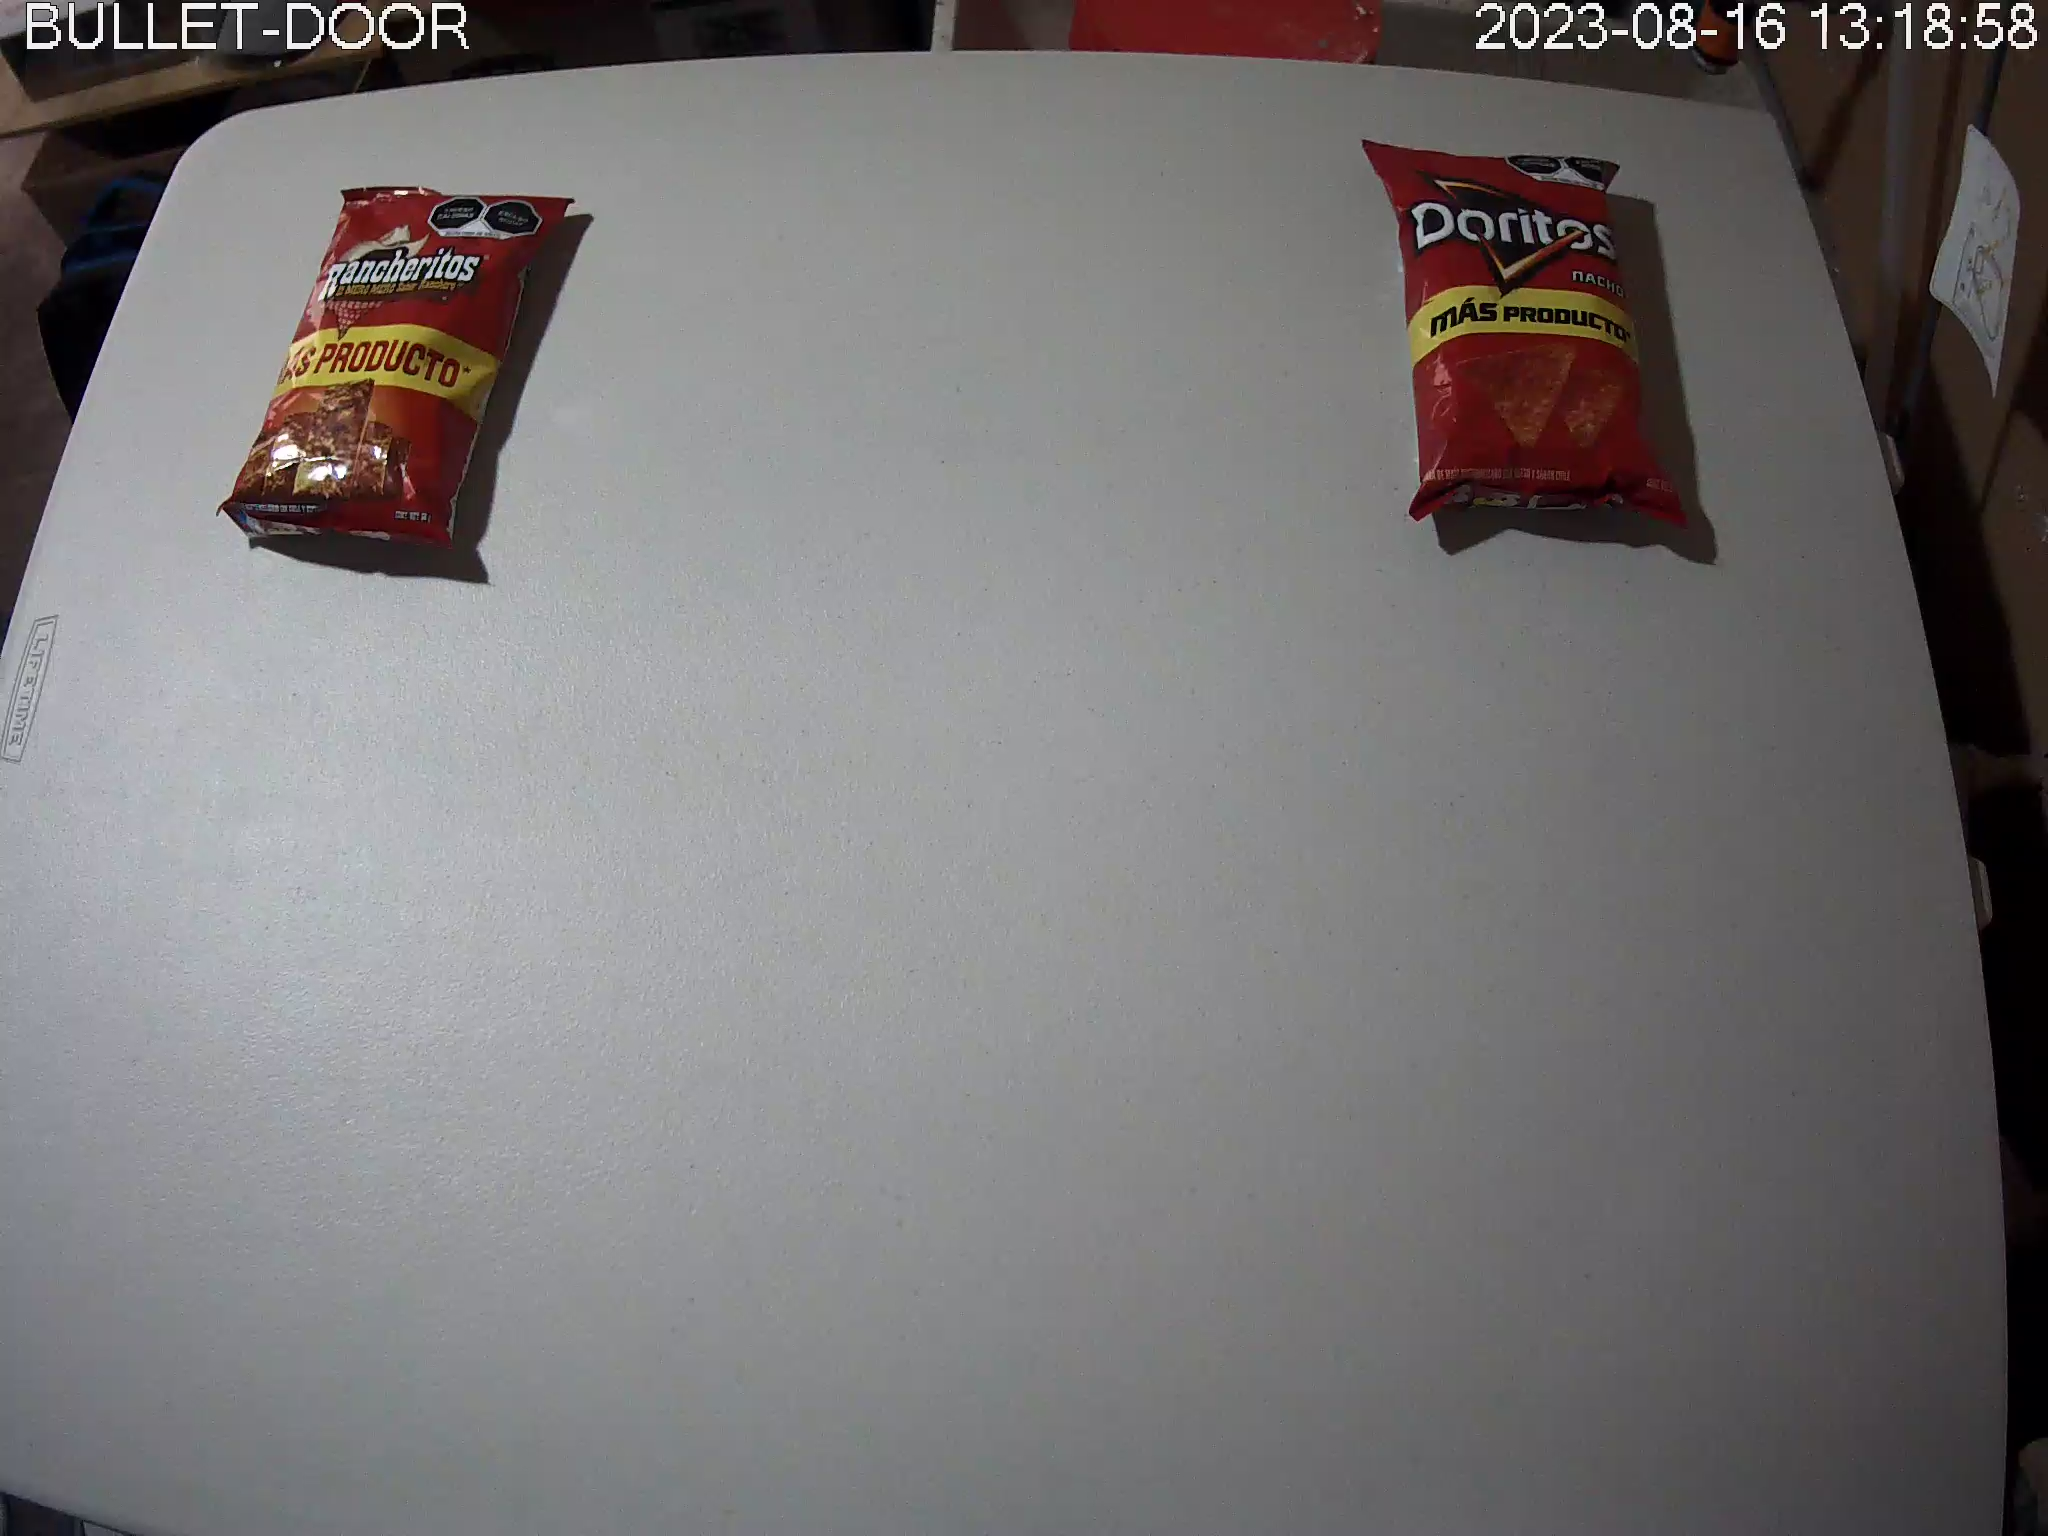DoritosN_61_F: (1361, 139, 1692, 531)
Rancheritos_58_F: (214, 184, 576, 558)
